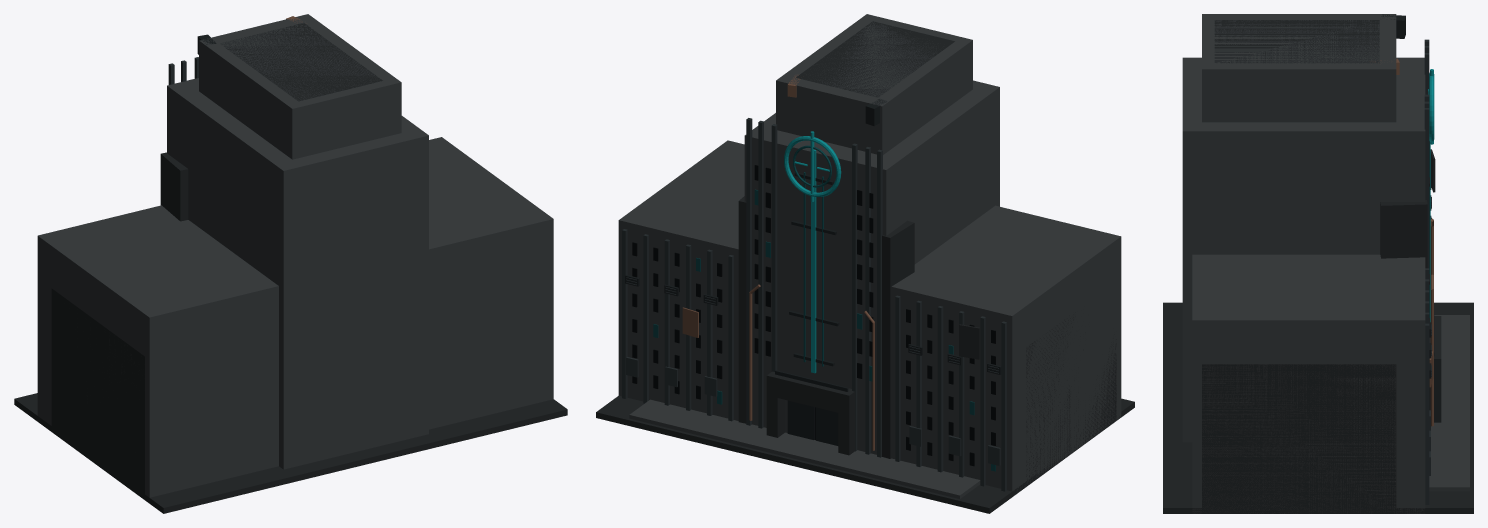
Rendered from CentralMemoryArchive.obj.
3 views of the same model, side by side, from view 1: azimuth 30°, elevation 25°; view 2: azimuth 150°, elevation 25°; view 3: azimuth 270°, elevation 25° (orthographic). The views are drawn at different scales.
Visible parts, largest first — view 1: MainTower, LeftWing, RightWing, Architecture, ExteriorPanels; view 2: MainTower, LeftWing, RightWing, Architecture, ExteriorPanels, Entrance, CyanLights, DamageParts, ArchiveSymbol, Pipes; view 3: RightWing, MainTower, Architecture, ExteriorPanels, Entrance, Pipes, DamageParts, ArchiveSymbol.
Part boxes in pixels (<box>): MainTower: <box>167,14,428,469</box>; LeftWing: <box>37,205,278,498</box>; RightWing: <box>429,137,553,429</box>; Architecture: <box>14,393,567,513</box>; ExteriorPanels: <box>160,152,188,221</box>; MainTower: <box>744,14,999,457</box>; LeftWing: <box>891,205,1121,492</box>; RightWing: <box>618,140,744,421</box>; Architecture: <box>596,395,1134,513</box>; ExteriorPanels: <box>625,172,1001,465</box>; Entrance: <box>766,370,854,455</box>; CyanLights: <box>803,150,823,373</box>; DamageParts: <box>682,74,979,359</box>; ArchiveSymbol: <box>784,131,841,201</box>; Pipes: <box>749,284,874,450</box>; RightWing: <box>1192,254,1429,513</box>; MainTower: <box>1182,14,1429,442</box>; Architecture: <box>1163,302,1473,513</box>; ExteriorPanels: <box>1380,177,1431,475</box>; Entrance: <box>1429,315,1441,422</box>; Pipes: <box>1430,218,1433,426</box>; DamageParts: <box>1375,14,1435,387</box>; ArchiveSymbol: <box>1429,69,1434,144</box>.
Bounding box in the file's own units: 50 × 42 × 32.
